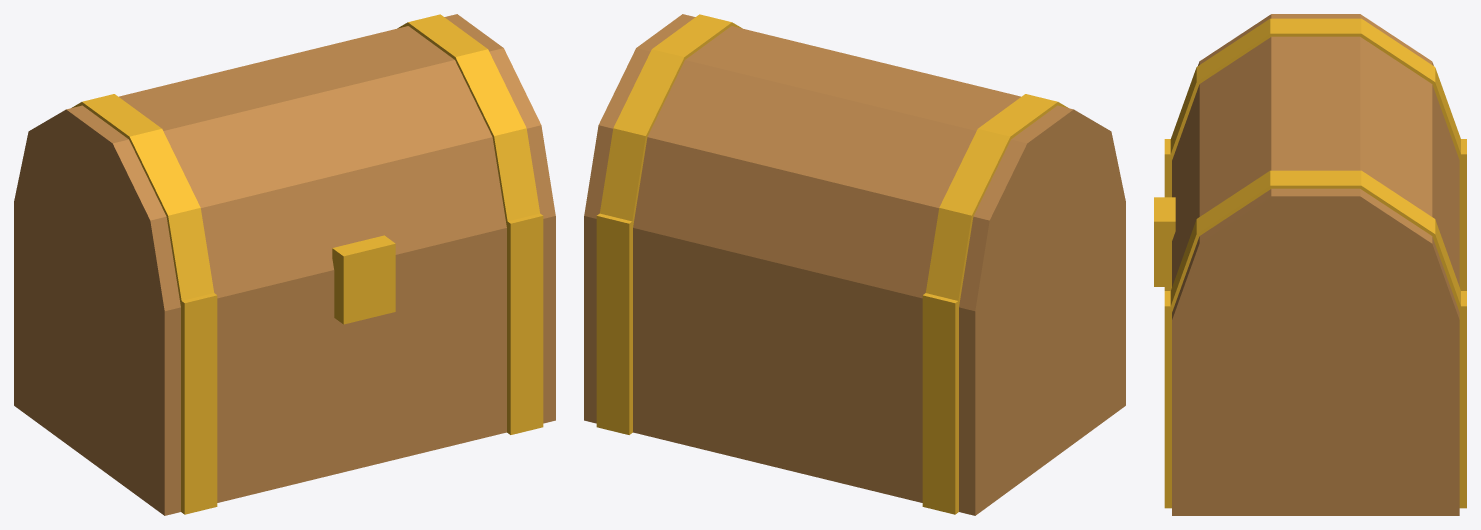
The model's file is treasure_chest.fbx.
3 renders of one model, left to right at view 1: azimuth 30°, elevation 25°; view 2: azimuth 150°, elevation 25°; view 3: azimuth 270°, elevation 25°, orthographic. The views are drawn at different scales.
Parts seen in each view (by area): view 1: treasure_chest; view 2: treasure_chest; view 3: treasure_chest.
Part boxes in pixels (x1,y1,x2,y2): treasure_chest: (14, 14, 555, 515); treasure_chest: (584, 14, 1125, 515); treasure_chest: (1154, 14, 1466, 515).
Size of the model in its own units: 0.6 by 0.495 by 0.435.
